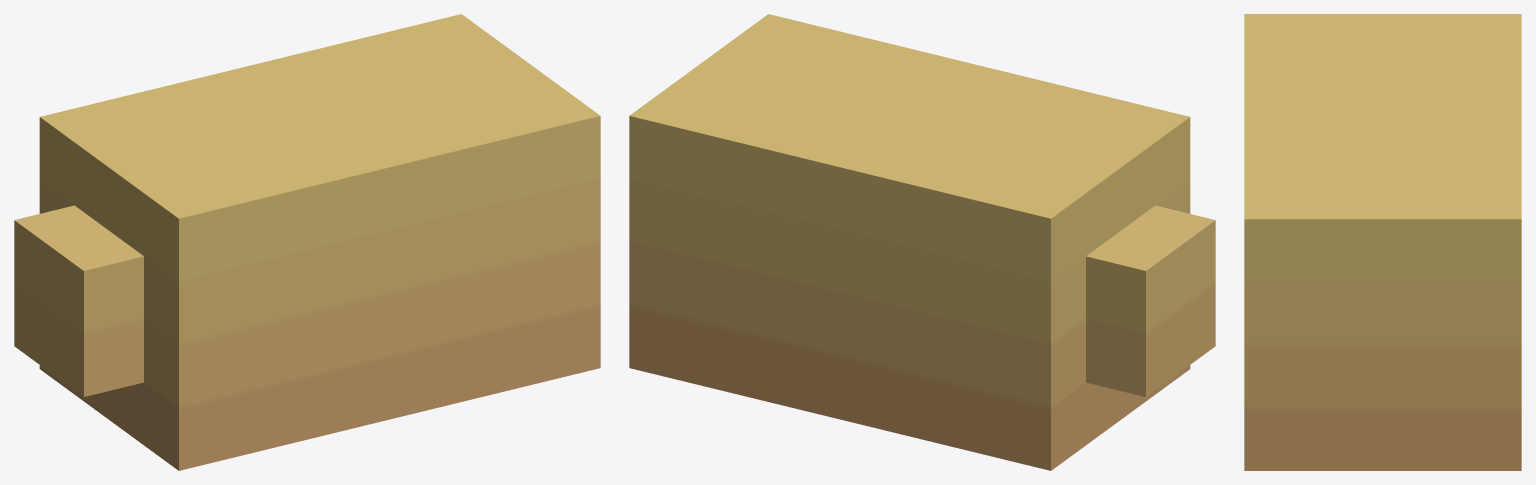
Rendered from Shoulder075.fbx.
The picture shows the model from 3 angles, left to right: view 1: azimuth 30°, elevation 25°; view 2: azimuth 150°, elevation 25°; view 3: azimuth 270°, elevation 25°; orthographic projection.
Parts seen in each view (by area): view 1: Shoulder075; view 2: Shoulder075; view 3: Shoulder075.
Part boxes in pixels (left/top/right/bottom): Shoulder075: left=14, top=14, right=600, bottom=470; Shoulder075: left=629, top=14, right=1215, bottom=470; Shoulder075: left=1244, top=14, right=1521, bottom=470.
Bounding box in the file's own units: 8 × 4 × 4.
